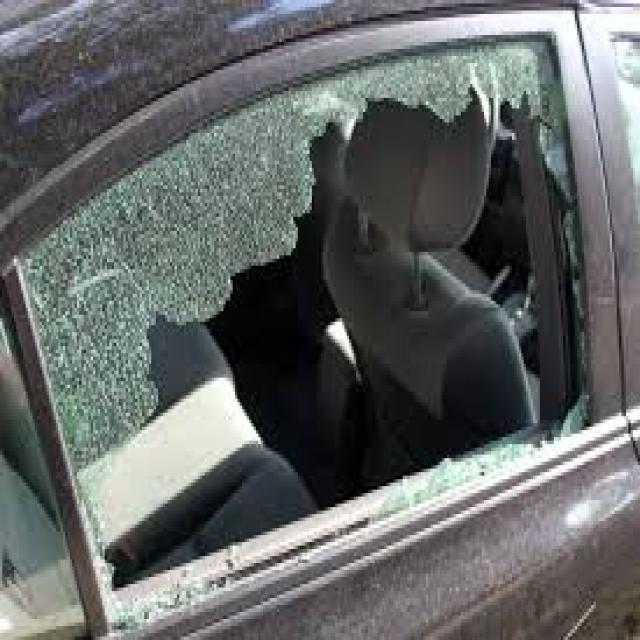minor: (30, 27, 590, 640)
